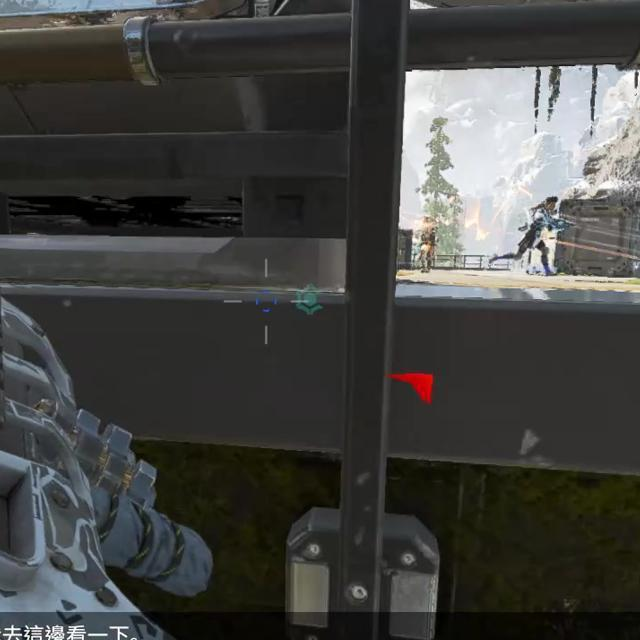avatar: (514, 193, 561, 279)
